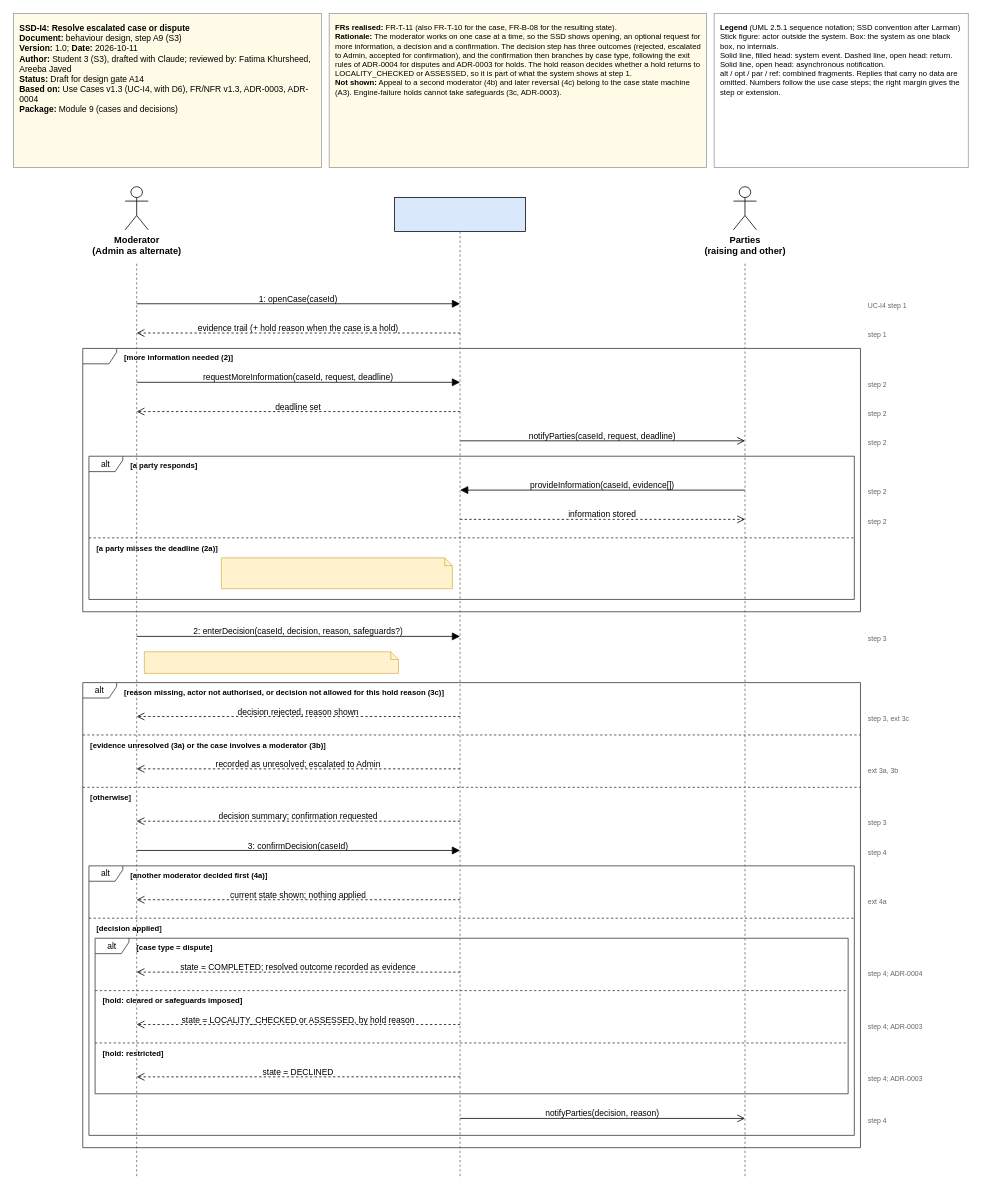
Some shapes in this 988 by 1191 pixel diagram are drawn without their labels. The box of each missing label's shape, as (x1, y1, x2, y2) in pixels:
:Digital Mohalla: (394, 197, 526, 231)
Decide on the available evidence; non-response is noted.: (221, 557, 452, 589)
decision = clear | imposeSafeguards | restrict | unresolved: (144, 651, 398, 673)
opt: (82, 348, 860, 612)
